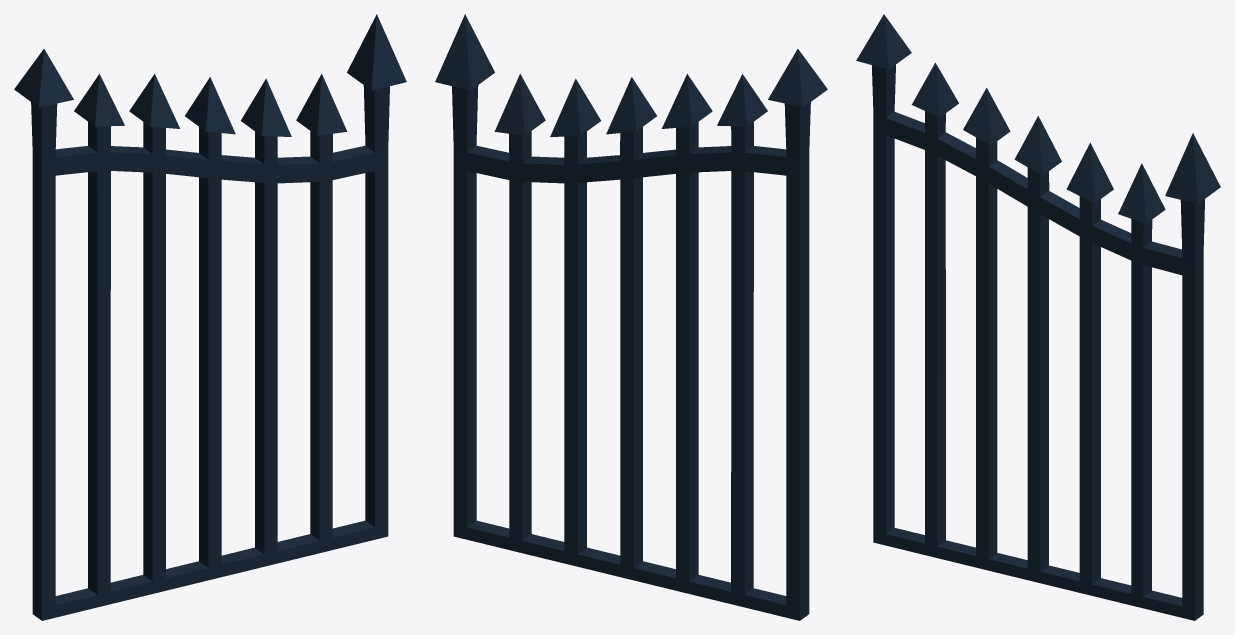
The model's file is Building_GateDoor02.fbx.
3 renders of one model, left to right at view 1: azimuth 30°, elevation 25°; view 2: azimuth 150°, elevation 25°; view 3: azimuth 330°, elevation 25°, orthographic. The views are drawn at different scales.
Parts seen in each view (by area): view 1: Cube.434; view 2: Cube.434; view 3: Cube.434.
Part boxes in pixels (box(x1,y1,x2,y2)): Cube.434: box(14, 14, 406, 620); Cube.434: box(435, 14, 827, 620); Cube.434: box(856, 14, 1220, 620).
Bounding box in the file's own units: 252 × 372 × 29.35.
